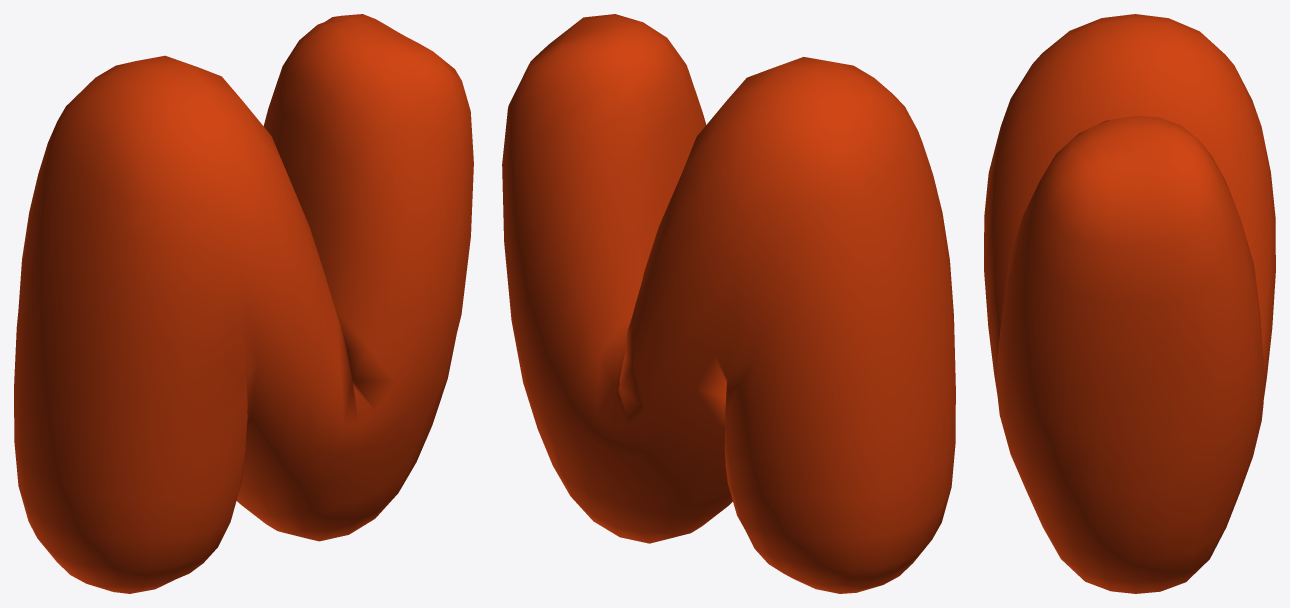
3 views of the same model, side by side, from view 1: azimuth 30°, elevation 25°; view 2: azimuth 150°, elevation 25°; view 3: azimuth 270°, elevation 25° (orthographic).
Parts seen in each view (by area): view 1: N_15; view 2: N_15; view 3: N_15.
Boxes of the visible parts, x1=… form: N_15: x1=14, y1=14, x2=473, y2=593; N_15: x1=502, y1=14, x2=955, y2=593; N_15: x1=984, y1=14, x2=1275, y2=593.
Bounding box in the file's own units: 82.88 × 97.23 × 52.19.
